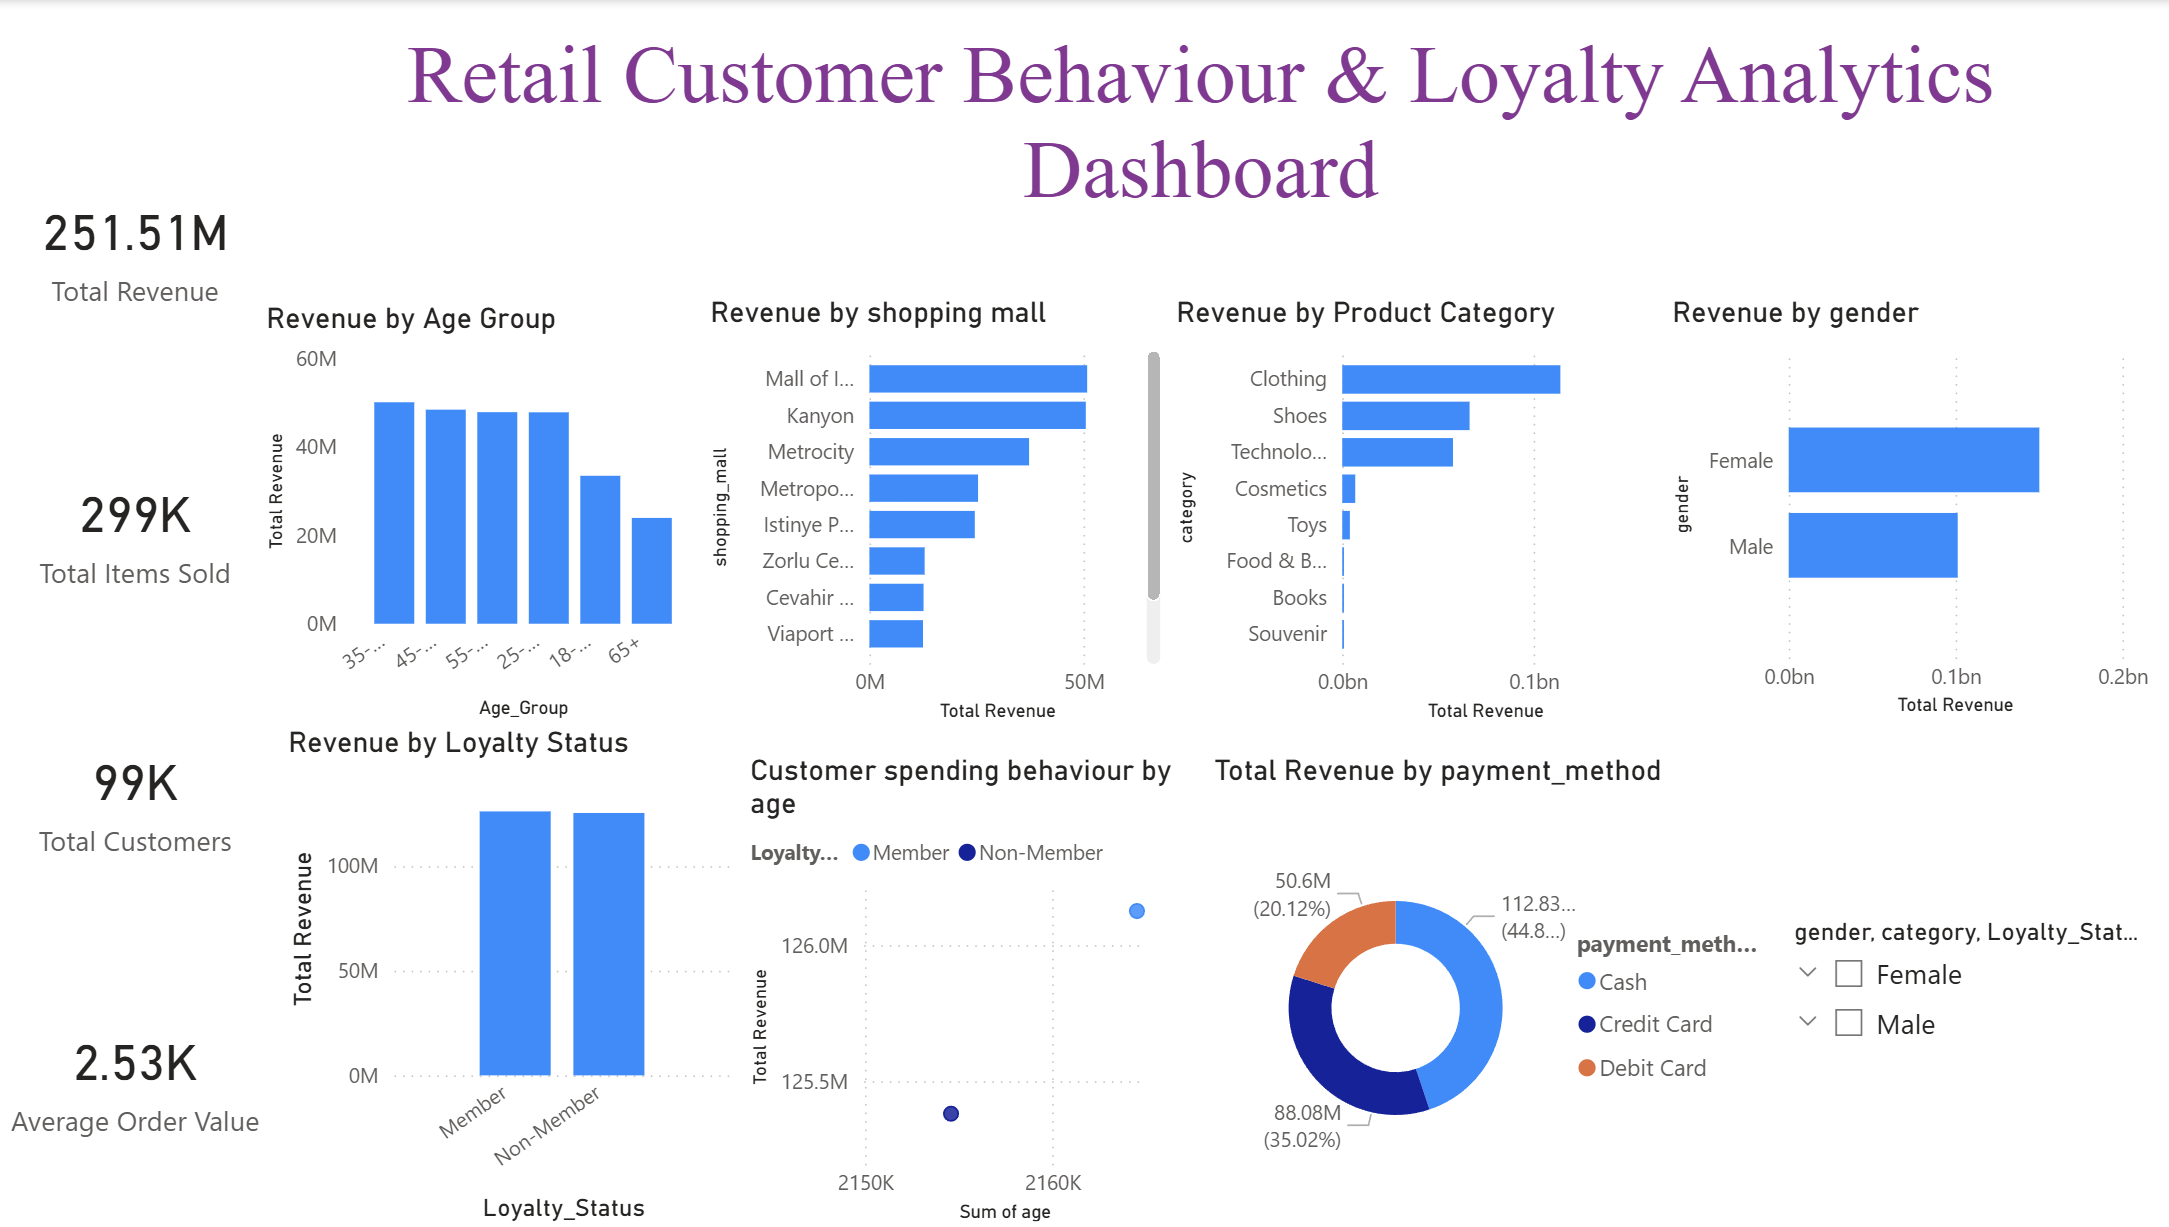

The dashboard page shown, as its layout file describes it:
{"tool":"powerbi","page":{"name":"Page 1","canvas":[1280,720],"ordinal":0},"visuals":[{"type":"card","fields":{"Values":["customer_shopping_data.Total Revenue"]},"box":[0,56.7,170,178.3],"z":0},{"type":"card","fields":{"Values":["customer_shopping_data.Total Customers"]},"box":[0,378.3,170,178.3],"z":2},{"type":"card","fields":{"Values":["customer_shopping_data.Average Order Value"]},"box":[0,541.7,170,178.3],"z":3},{"type":"card","fields":{"Values":["customer_shopping_data.Total Items Sold"]},"box":[0,221.7,170,178.3],"z":4},{"type":"clusteredBarChart","title":"Revenue by Product Category","fields":{"Category":["customer_shopping_data.category"],"Y":["customer_shopping_data.Total Revenue"]},"box":[690,173.8,290,253.3],"z":5},{"type":"barChart","title":"Revenue by gender","fields":{"Category":["customer_shopping_data.gender"],"Y":["customer_shopping_data.Total Revenue"]},"box":[980,173.3,288.3,250],"z":6},{"type":"clusteredColumnChart","title":"Revenue by Age Group","fields":{"Category":["customer_shopping_data.Age_Group"],"Y":["customer_shopping_data.Total Revenue"]},"box":[156.7,177.1,260,248.3],"z":7},{"type":"columnChart","title":"Revenue by Loyalty Status","fields":{"Category":["customer_shopping_data.Loyalty_Status"],"Y":["customer_shopping_data.Total Revenue"]},"box":[170,425,270,295],"z":8},{"type":"barChart","title":"Revenue by shopping mall","fields":{"Category":["customer_shopping_data.shopping_mall"],"Y":["customer_shopping_data.Total Revenue"]},"box":[416.7,173.8,273.3,253.3],"z":9},{"type":"scatterChart","title":"Customer spending behaviour by age","fields":{"X":["Sum(customer_shopping_data.age)"],"Y":["customer_shopping_data.Total Revenue"],"Series":["customer_shopping_data.Loyalty_Status"]},"box":[440,441.7,258.3,278.3],"z":10},{"type":"slicer","fields":{"Values":["customer_shopping_data.gender","customer_shopping_data.category","customer_shopping_data.Loyalty_Status","customer_shopping_data.shopping_mall"]},"box":[1043.3,531.7,236.7,100],"z":11},{"type":"donutChart","fields":{"Category":["customer_shopping_data.payment_method"],"Y":["customer_shopping_data.Total Revenue"]},"box":[711.7,441.7,330,278.3],"z":12},{"type":"textbox","box":[230,10,958.3,125],"z":13}]}

Visuals, with their boxes in screenshot pixels (x1, y1, x2, y2), scaled from the page's 1280x720 canvas onto the 2169x1227 screenshot:
card - customer_shopping_data.Total Revenue: 0:97:288:400
card - customer_shopping_data.Total Customers: 0:645:288:949
card - customer_shopping_data.Average Order Value: 0:923:288:1226
card - customer_shopping_data.Total Items Sold: 0:378:288:682
"Revenue by Product Category" clusteredBarChart: 1169:296:1661:728
"Revenue by gender" barChart: 1661:295:2149:721
"Revenue by Age Group" clusteredColumnChart: 266:302:706:725
"Revenue by Loyalty Status" columnChart: 288:724:746:1226
"Revenue by shopping mall" barChart: 706:296:1169:728
"Customer spending behaviour by age" scatterChart: 746:753:1183:1226
slicer - customer_shopping_data.gender x customer_shopping_data.category: 1768:906:2168:1077
donutChart - customer_shopping_data.payment_method x customer_shopping_data.Total Revenue: 1206:753:1765:1226
textbox: 390:17:2014:230
